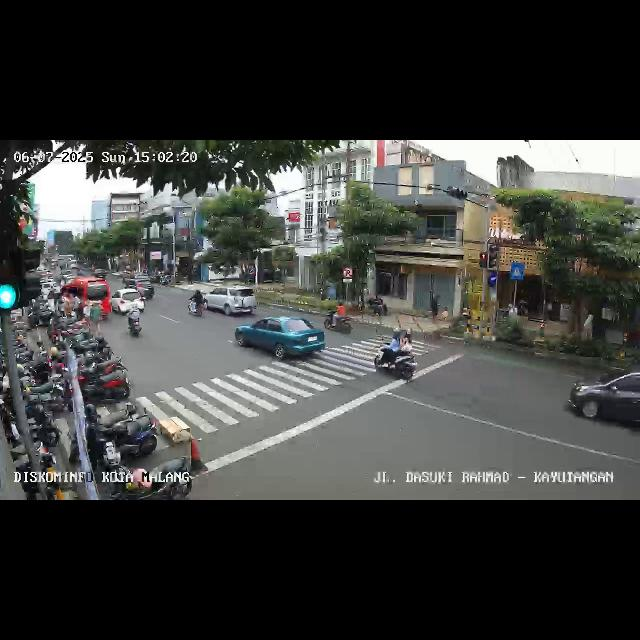car: (568, 365, 638, 435), (236, 315, 324, 365), (59, 276, 111, 322), (207, 286, 257, 316), (112, 288, 146, 314)
motorcycle: (374, 329, 418, 381), (323, 300, 353, 336), (126, 302, 144, 338), (186, 289, 206, 319)
